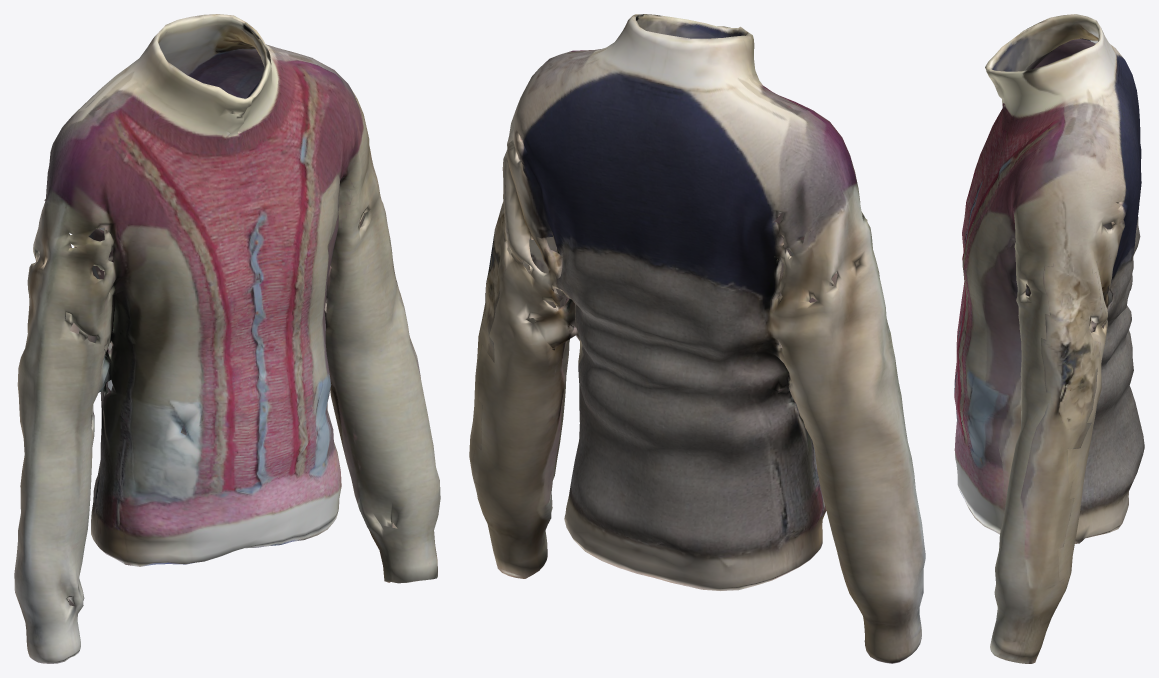
File: product01.glb
The picture shows the model from 3 angles, left to right: view 1: azimuth 30°, elevation 25°; view 2: azimuth 150°, elevation 25°; view 3: azimuth 270°, elevation 25°; orthographic projection. The views are drawn at different scales.
Size of the model in its own units: 1.5 by 2 by 0.6306.
Materials: 1 (1 with a texture image).
